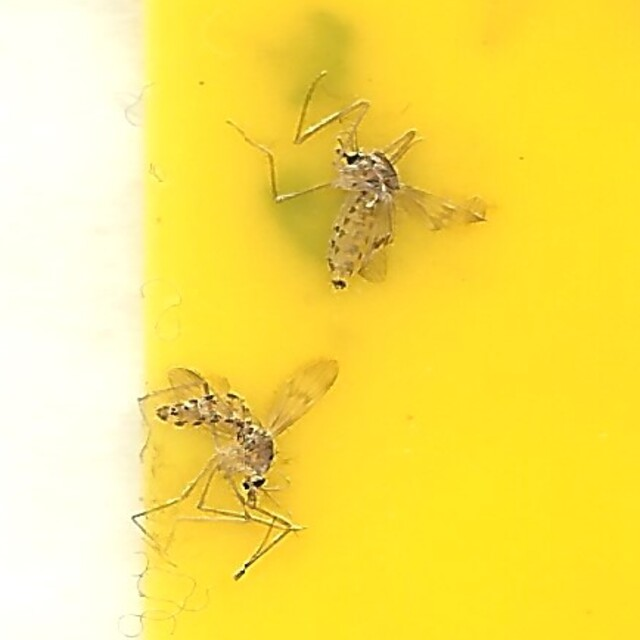Nematocera: (304, 131, 493, 308), (147, 357, 341, 509)
